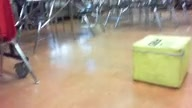cube: (132, 34, 192, 89)
